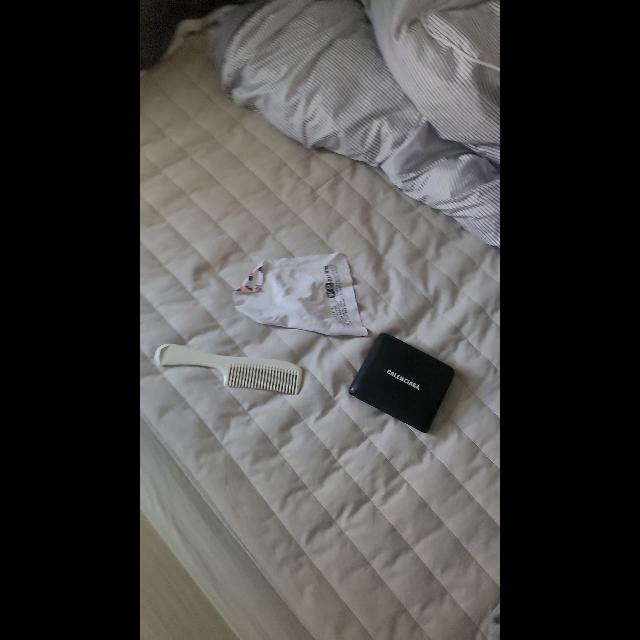COMB: (155, 344, 303, 394)
Glasses cleaning cloth: (232, 252, 368, 336)
WALLET: (349, 332, 455, 434)
